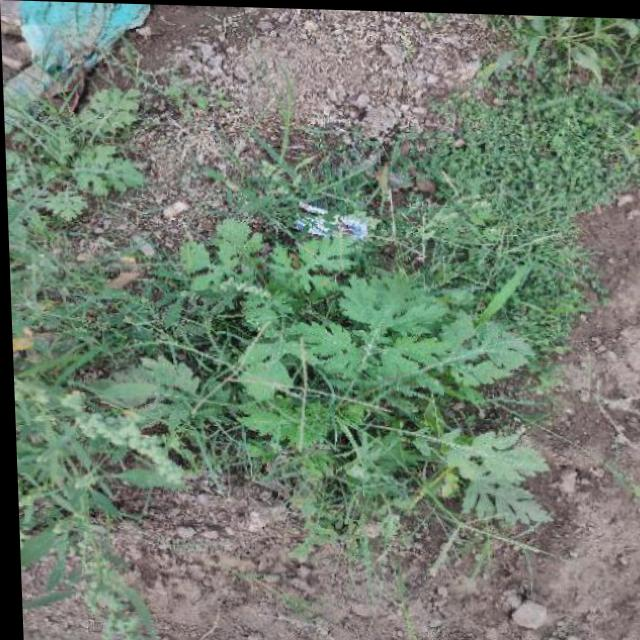weed: (42, 223, 580, 525)
